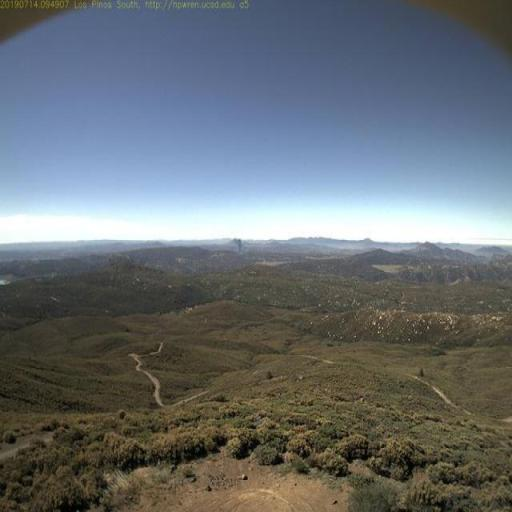smoke: (228, 232, 246, 257)
